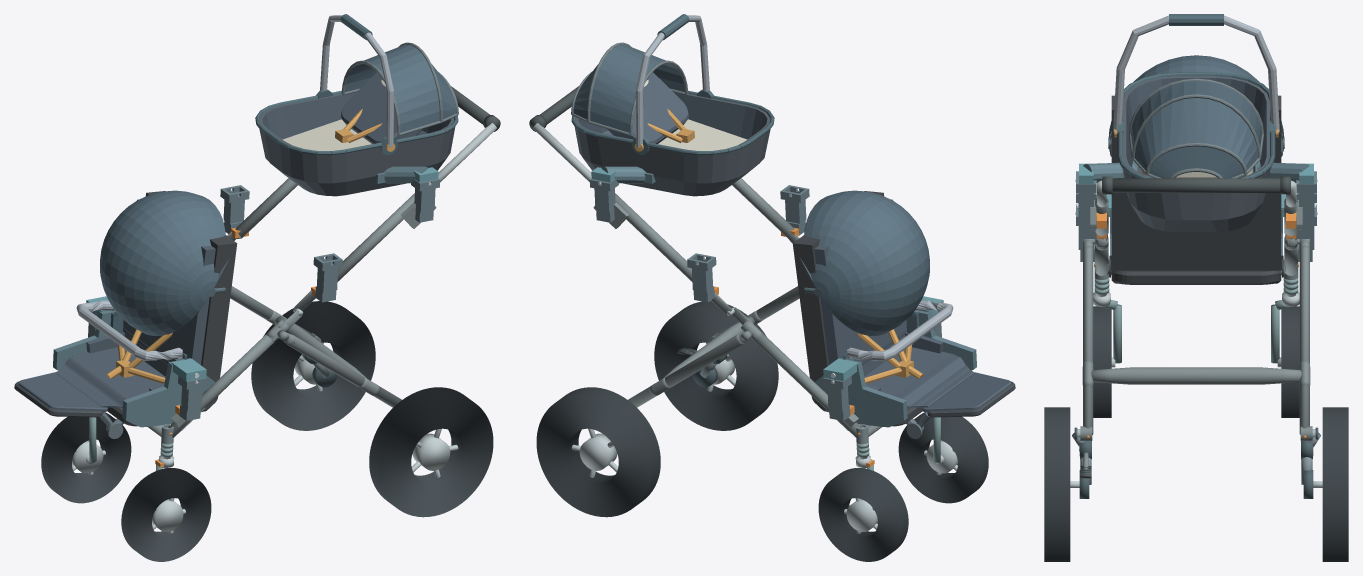
The model's file is D06_w550_state1_wheel_L.glb.
The picture shows the model from 3 angles, left to right: view 1: azimuth 30°, elevation 25°; view 2: azimuth 150°, elevation 25°; view 3: azimuth 270°, elevation 25°; orthographic projection. The views are drawn at different scales.
Visible parts, largest first — view 1: D06_Lower, D06_Upper, RL_tire.002, RR_tire.002, FL_tire.002, FR_tire.002, D06_Lower_Mount_L, V46_rear_leg_-1.003, main_lower_-1.003, main_upper_-1.003, Universal_Cabin_Receiver_M_-1, RL_sealed_hub.002 (+10 smaller); view 2: D06_Lower, D06_Upper, RR_tire.002, RL_tire.002, FR_tire.002, FL_tire.002, D06_Lower_Mount_L, V46_rear_leg_1.003, main_lower_1.003, main_upper_1.003, Universal_Cabin_Receiver_M_1, RR_sealed_hub.002 (+10 smaller); view 3: D06_Upper, D06_Lower, RL_tire.002, RR_tire.002, V46_rearbar.003, round_handle.002, FL_tire.002, FR_tire.002, V46_rear_leg_1.003, V46_rear_leg_-1.003, D06_Upper_Mount_H, Universal_Cabin_Receiver_H_1 (+4 smaller).
Part boxes in pixels (<box>): D06_Lower: <box>14,190,237,438</box>; D06_Upper: <box>255,14,458,196</box>; RL_tire.002: <box>369,387,493,517</box>; RR_tire.002: <box>251,301,375,430</box>; FL_tire.002: <box>121,468,211,561</box>; FR_tire.002: <box>41,412,131,503</box>; D06_Lower_Mount_L: <box>53,296,215,427</box>; V46_rear_leg_-1.003: <box>285,334,401,407</box>; main_lower_-1.003: <box>168,334,277,437</box>; main_upper_-1.003: <box>337,193,414,281</box>; Universal_Cabin_Receiver_M_-1: <box>313,253,342,302</box>; RL_sealed_hub.002: <box>412,433,450,470</box>; D06_Lower: <box>792,190,1015,438</box>; D06_Upper: <box>571,14,774,196</box>; RR_tire.002: <box>536,387,660,517</box>; RL_tire.002: <box>654,301,778,430</box>; FR_tire.002: <box>818,468,908,561</box>; FL_tire.002: <box>898,412,988,503</box>; D06_Lower_Mount_L: <box>814,296,976,427</box>; V46_rear_leg_1.003: <box>628,334,744,407</box>; main_lower_1.003: <box>752,334,861,437</box>; main_upper_1.003: <box>615,193,692,281</box>; Universal_Cabin_Receiver_M_1: <box>687,253,716,302</box>; RR_sealed_hub.002: <box>579,433,617,470</box>; D06_Upper: <box>1113,14,1279,231</box>; D06_Lower: <box>1108,55,1284,284</box>; RL_tire.002: <box>1044,407,1070,561</box>; RR_tire.002: <box>1322,407,1348,561</box>; V46_rearbar.003: <box>1091,367,1301,384</box>; round_handle.002: <box>1102,178,1290,192</box>; FL_tire.002: <box>1093,306,1111,417</box>; FR_tire.002: <box>1281,306,1299,417</box>; V46_rear_leg_1.003: <box>1299,245,1309,434</box>; V46_rear_leg_-1.003: <box>1083,245,1093,434</box>; D06_Upper_Mount_H: <box>1075,161,1317,183</box>; Universal_Cabin_Receiver_H_1: <box>1296,171,1316,228</box>.
Size of the model in its own units: 1.36 by 1.36 by 0.7071.
